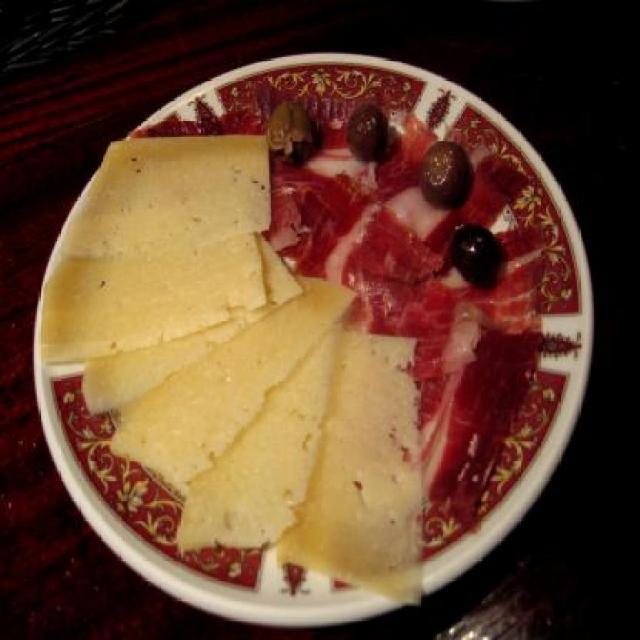Cheese: (40, 137, 418, 606)
